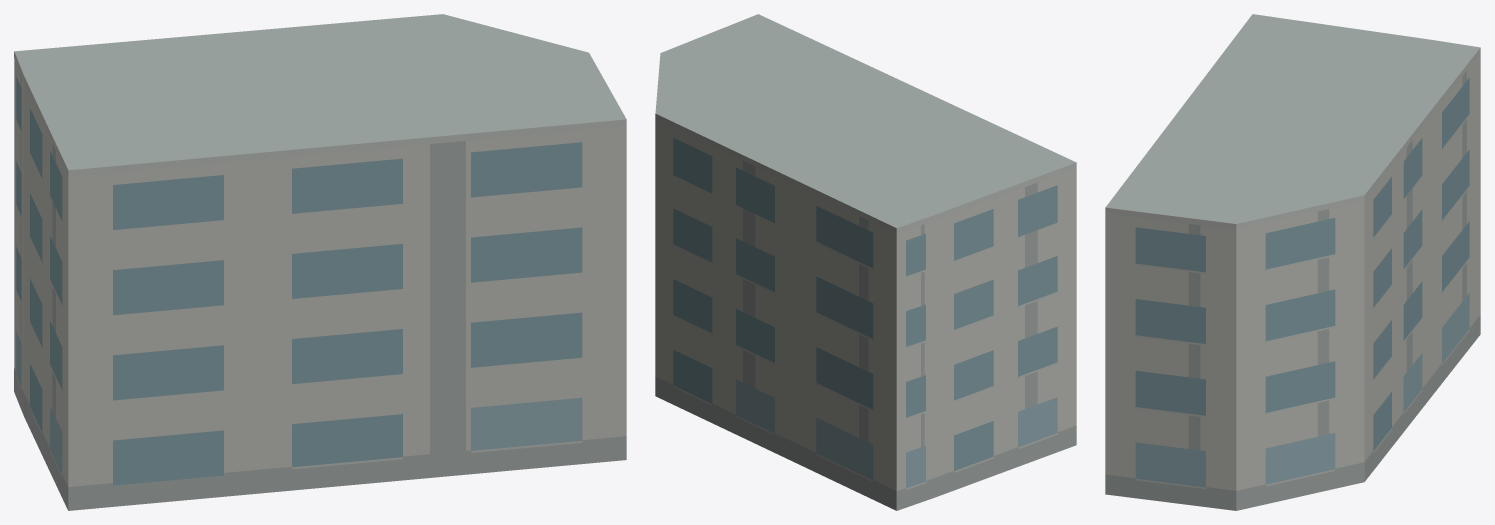
Rendered from survey-upis-32529567.glb.
3 views of the same model, side by side, from view 1: azimuth 30°, elevation 25°; view 2: azimuth 150°, elevation 25°; view 3: azimuth 270°, elevation 25° (orthographic). The views are drawn at different scales.
Parts seen in each view (by area): view 1: survey-upis-32529567.tmp; view 2: survey-upis-32529567.tmp; view 3: survey-upis-32529567.tmp.
Part boxes in pixels (left/top/right/bottom): survey-upis-32529567.tmp: left=14, top=14, right=626, bottom=510; survey-upis-32529567.tmp: left=655, top=14, right=1076, bottom=510; survey-upis-32529567.tmp: left=1105, top=14, right=1480, bottom=510.
Bounding box in the file's own units: 19.17 × 12.2 × 14.47.
